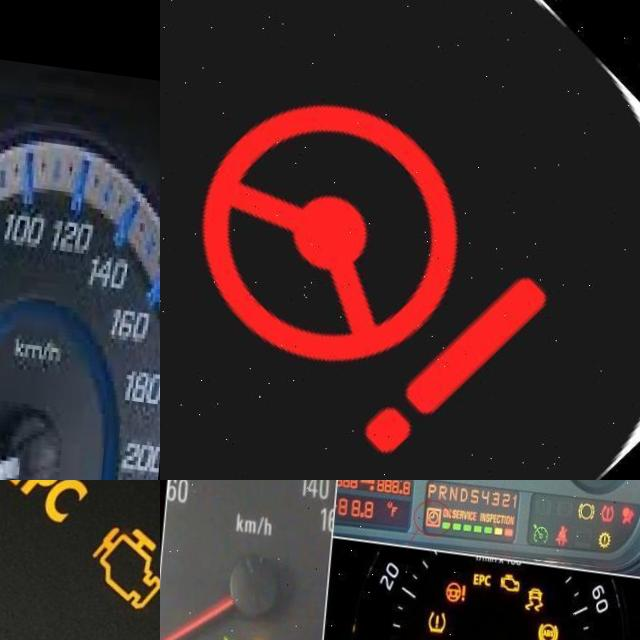Electronic Power Steering Warning: (450, 569, 471, 591)
Seat Belt: (557, 508, 571, 533), (427, 632, 442, 640)
